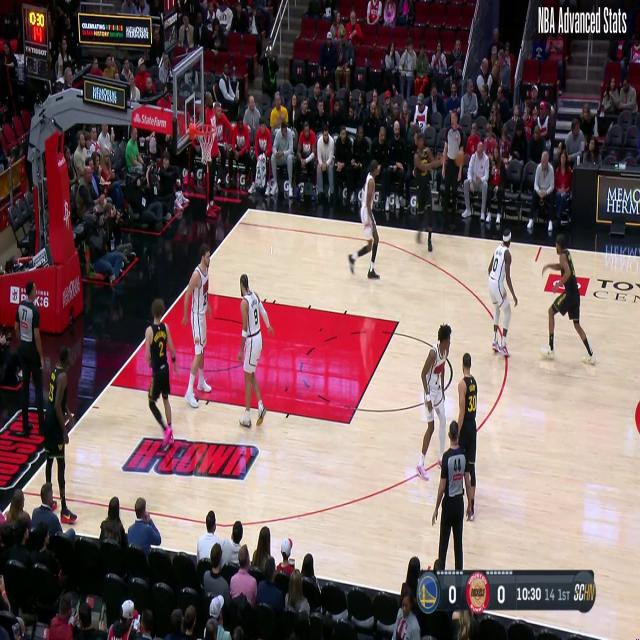ball: (452, 149, 466, 170)
judge: (432, 420, 472, 570), (14, 286, 46, 436), (440, 108, 466, 233)
player: (540, 237, 597, 364), (237, 273, 275, 430), (182, 243, 213, 410), (143, 299, 178, 446), (416, 327, 449, 481), (44, 356, 74, 499), (457, 354, 480, 518), (488, 232, 518, 357), (350, 159, 379, 284), (414, 135, 435, 252)
